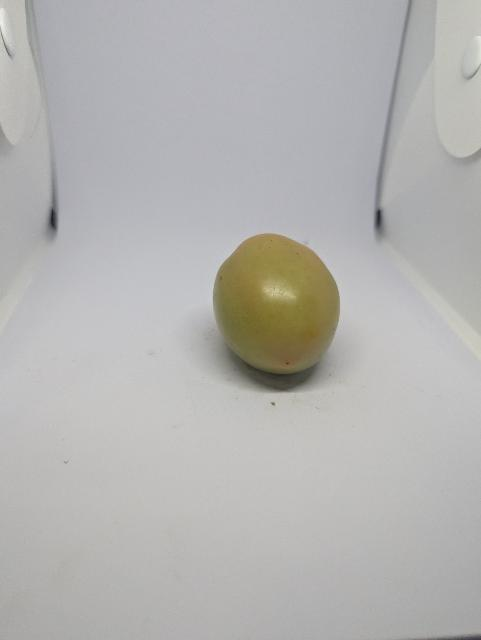breaker: (212, 230, 347, 375)
